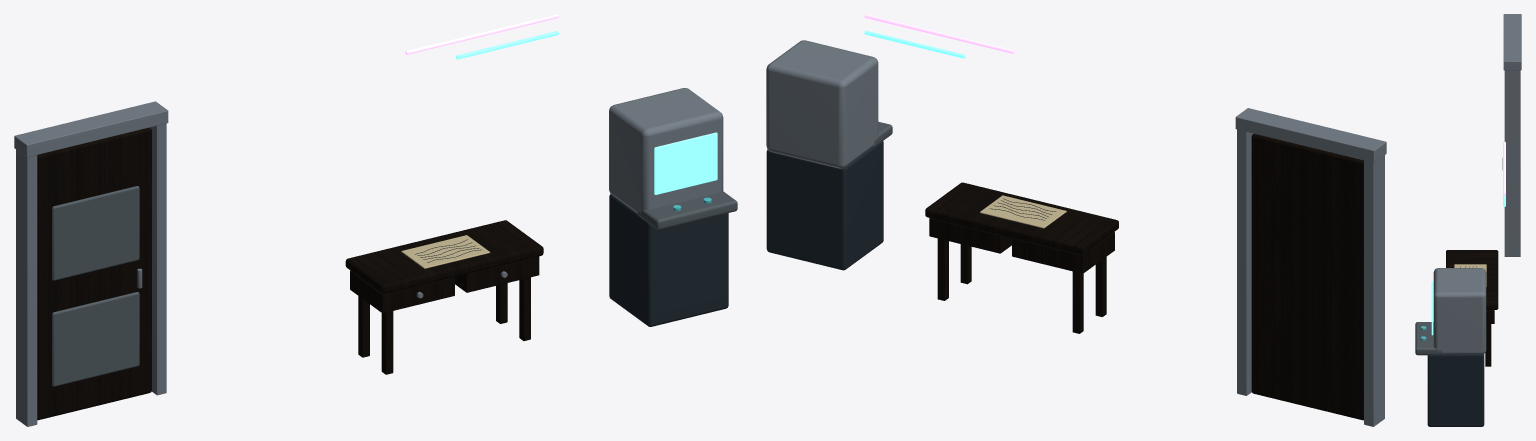
The model's file is south.glb.
The picture shows the model from 3 angles, left to right: view 1: azimuth 30°, elevation 25°; view 2: azimuth 150°, elevation 25°; view 3: azimuth 270°, elevation 25°; orthographic projection. The views are drawn at different scales.
Visible parts, largest first — view 1: cyberpunk-back-room south; view 2: cyberpunk-back-room south; view 3: cyberpunk-back-room south.
Part boxes in pixels (<box>): cyberpunk-back-room south: <box>14,14,737,426</box>; cyberpunk-back-room south: <box>766,14,1386,426</box>; cyberpunk-back-room south: <box>1415,14,1521,426</box>.
Size of the model in its own units: 6.4 by 2.68 by 1.31.
9 materials, 1 textured.
